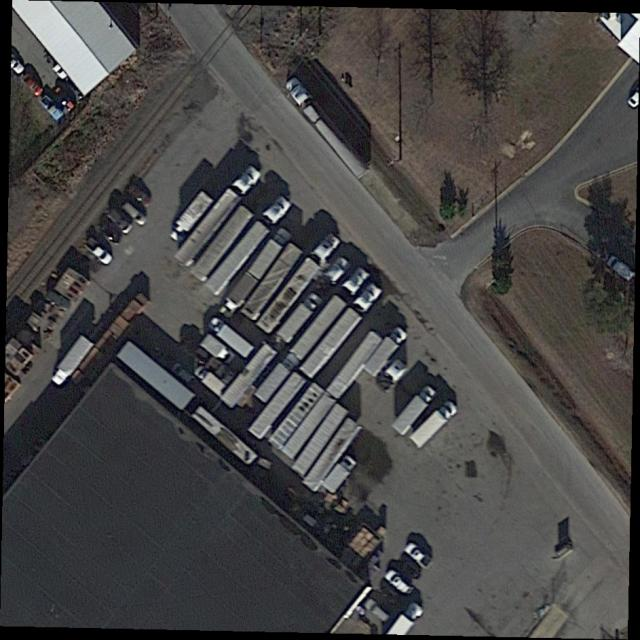large-vehicle: (176, 164, 263, 268), (284, 76, 371, 178), (258, 232, 341, 334), (207, 196, 290, 295), (289, 268, 370, 364), (300, 286, 381, 379), (276, 291, 324, 344), (246, 227, 294, 280), (410, 401, 459, 451), (392, 384, 438, 437), (169, 190, 214, 244), (206, 312, 255, 360), (50, 336, 94, 389), (364, 325, 408, 377), (217, 270, 259, 320), (322, 456, 358, 495), (199, 332, 238, 367), (194, 364, 229, 398)
small-vehicle: (381, 566, 415, 598), (83, 235, 115, 266), (403, 539, 434, 571), (604, 253, 635, 282), (119, 200, 149, 228), (105, 207, 134, 235), (125, 182, 153, 209), (39, 93, 65, 122), (20, 70, 45, 99), (168, 360, 195, 384)
